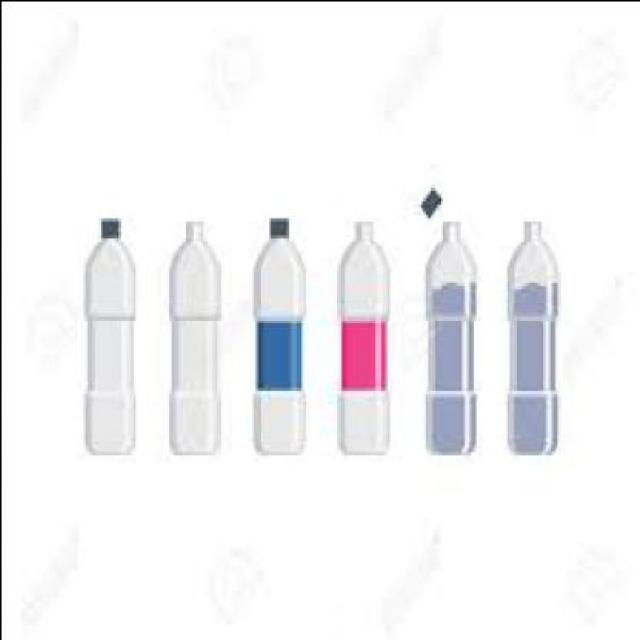PLASTIC: (246, 213, 305, 447), (501, 217, 554, 451), (166, 217, 217, 454), (81, 213, 132, 450), (422, 217, 472, 451), (336, 213, 386, 447), (418, 183, 436, 214), (264, 213, 285, 238), (96, 213, 116, 238)
